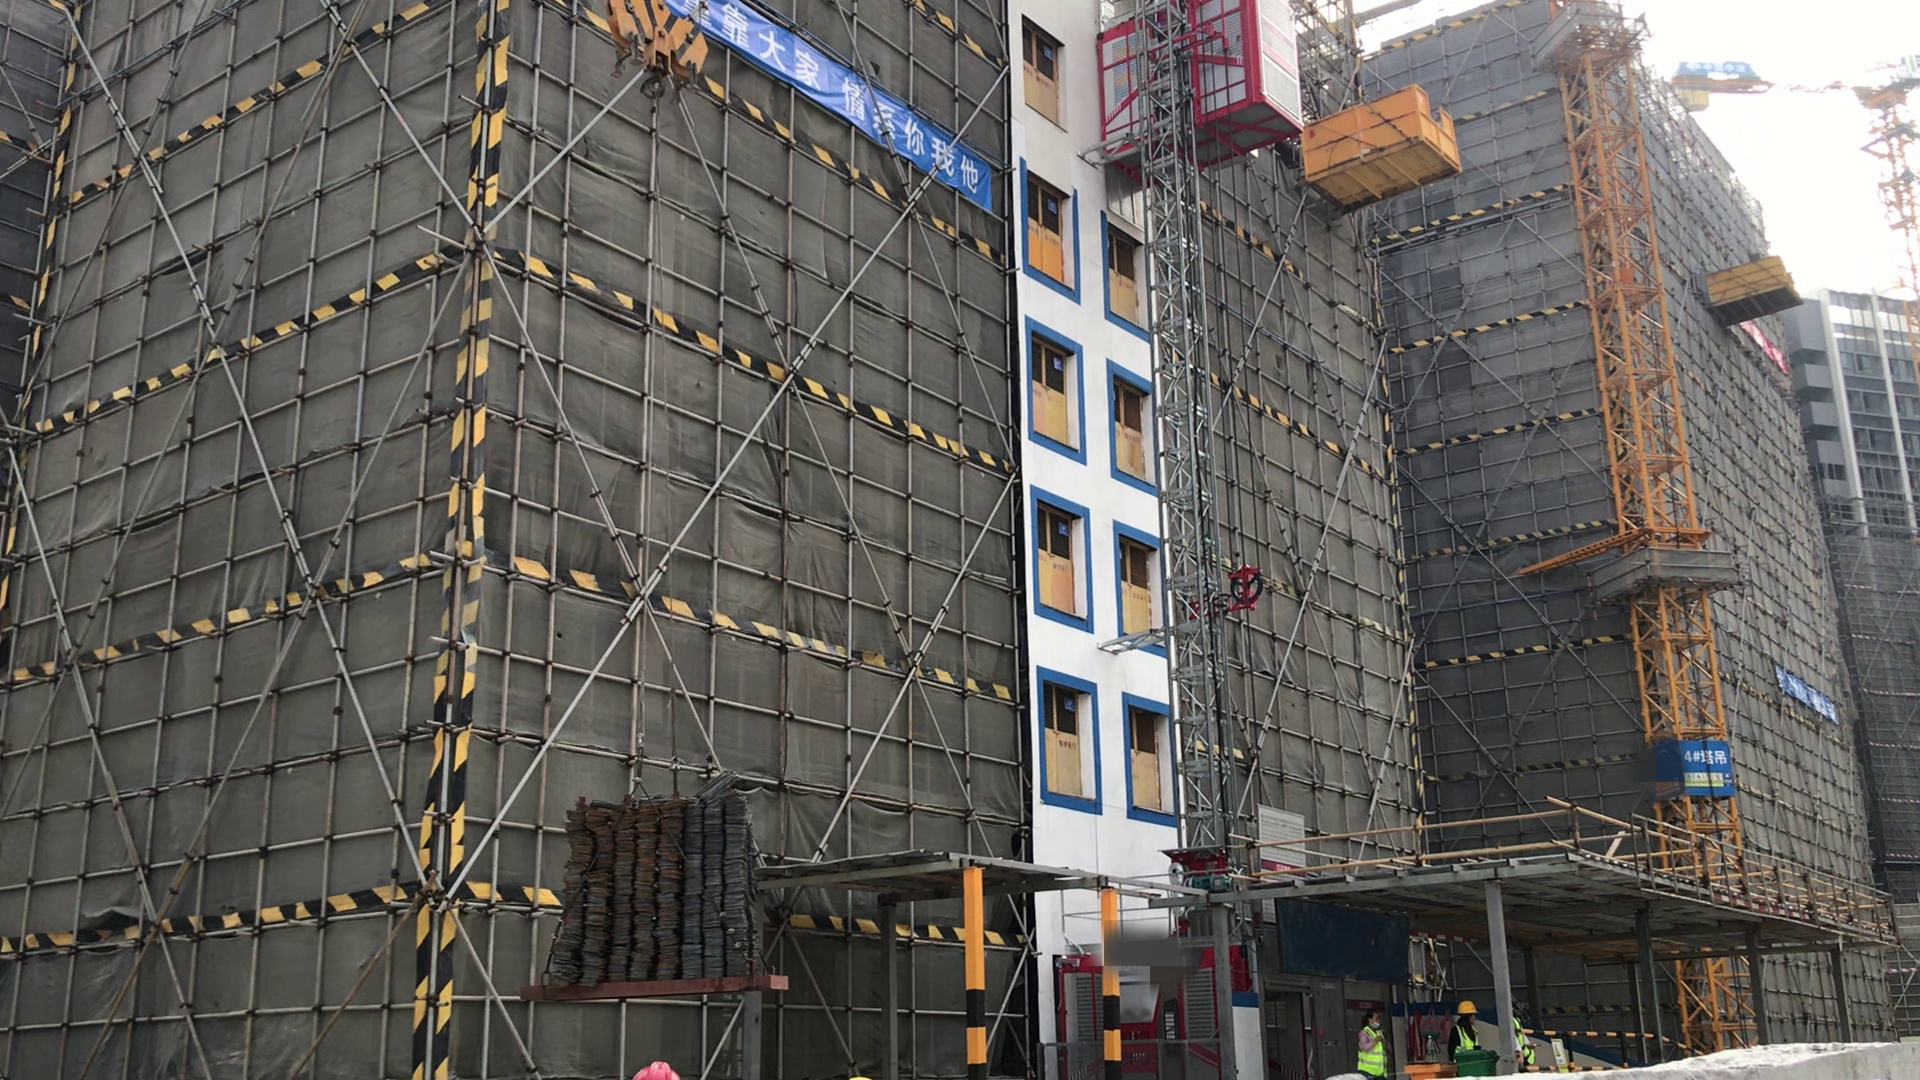helmet: (626, 1052, 693, 1080), (1456, 998, 1483, 1016)
hook: (601, 3, 717, 122)
person: (1447, 991, 1490, 1075), (1353, 1005, 1395, 1080)
slogan: (703, 1, 1025, 217), (1672, 48, 1801, 129), (1770, 663, 1860, 730)
vest: (1356, 1026, 1392, 1077), (1513, 1017, 1540, 1071), (1451, 1021, 1484, 1053)
